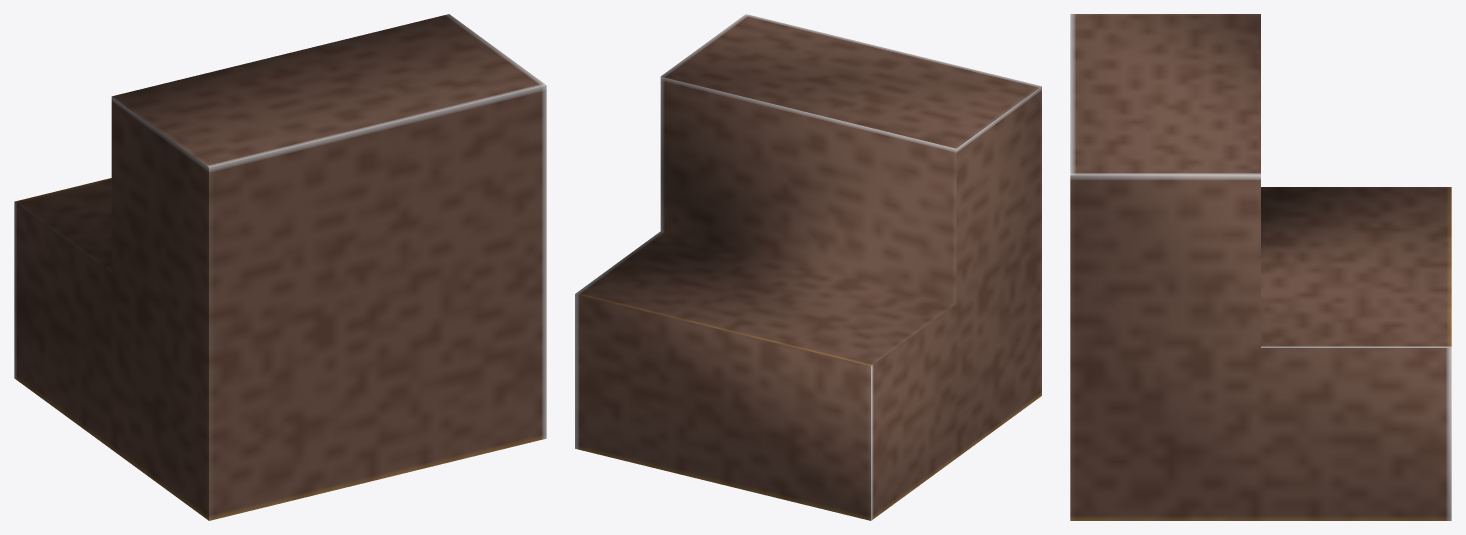
Rendered from bordebarcopersa.fbx.
The picture shows the model from 3 angles, left to right: view 1: azimuth 30°, elevation 25°; view 2: azimuth 150°, elevation 25°; view 3: azimuth 270°, elevation 25°; orthographic projection. The views are drawn at different scales.
Parts seen in each view (by area): view 1: Cube; view 2: Cube; view 3: Cube.
Part boxes in pixels (bbox=[...]): Cube: bbox=[14, 14, 546, 520]; Cube: bbox=[575, 14, 1041, 520]; Cube: bbox=[1070, 14, 1451, 520].
Bounding box in the file's own units: 1 × 1 × 1.
Materials: 1 (1 with a texture image).
